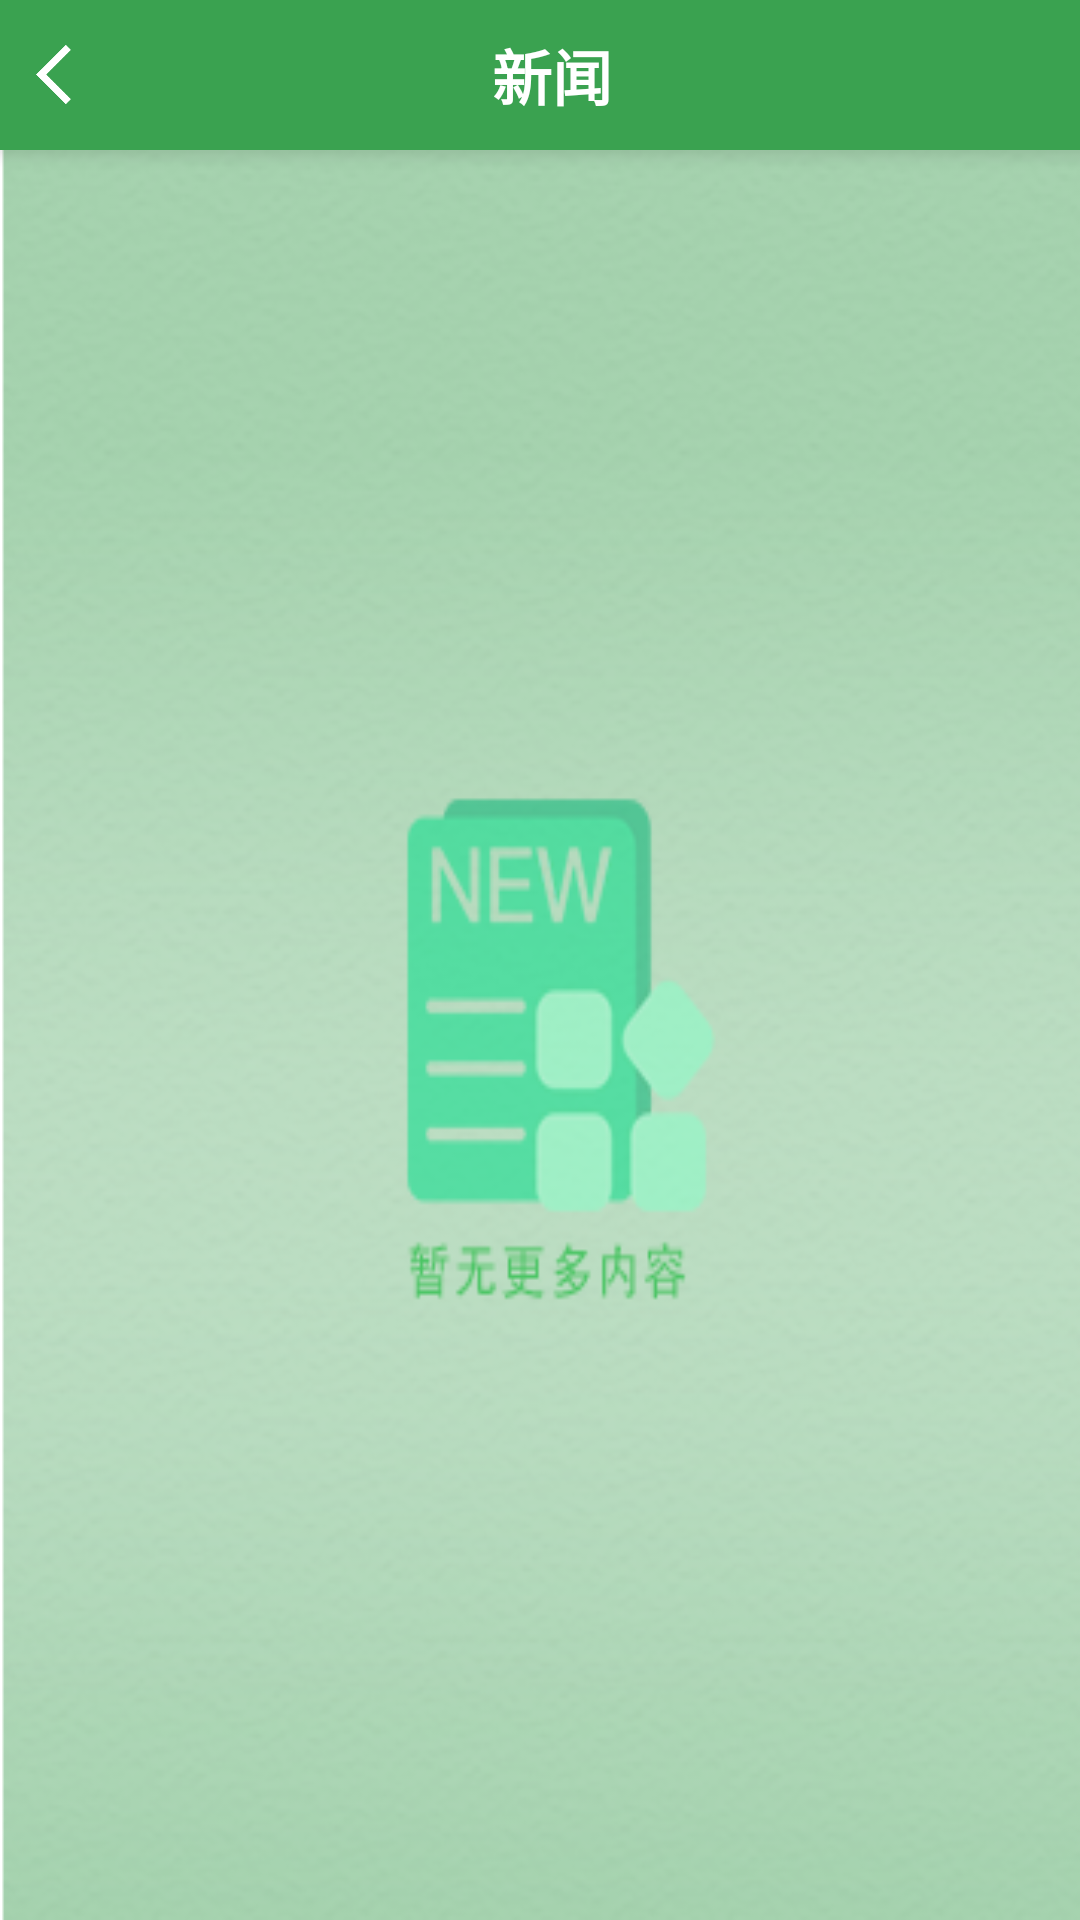

Where to tap for icons on this 1080*1920 app screen, as (x,y):
left: (53,74)
